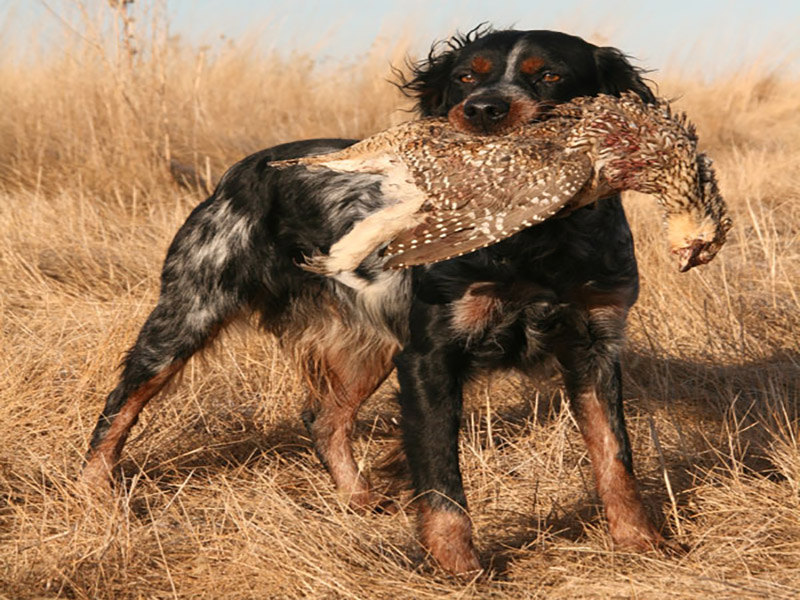cane da caccia: (77, 28, 704, 540)
